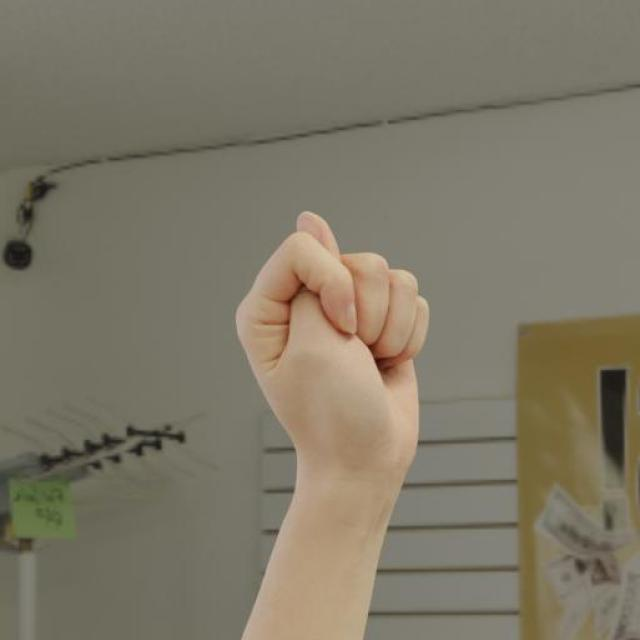T: (232, 206, 434, 479)
